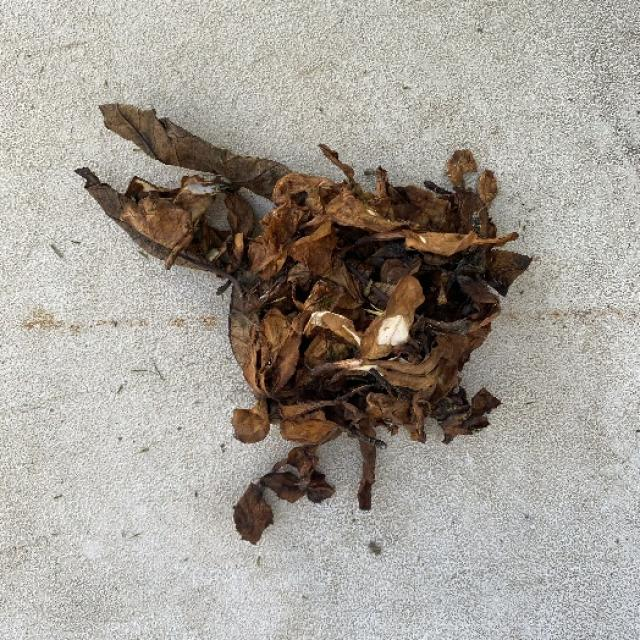organik: (90, 98, 516, 552)
